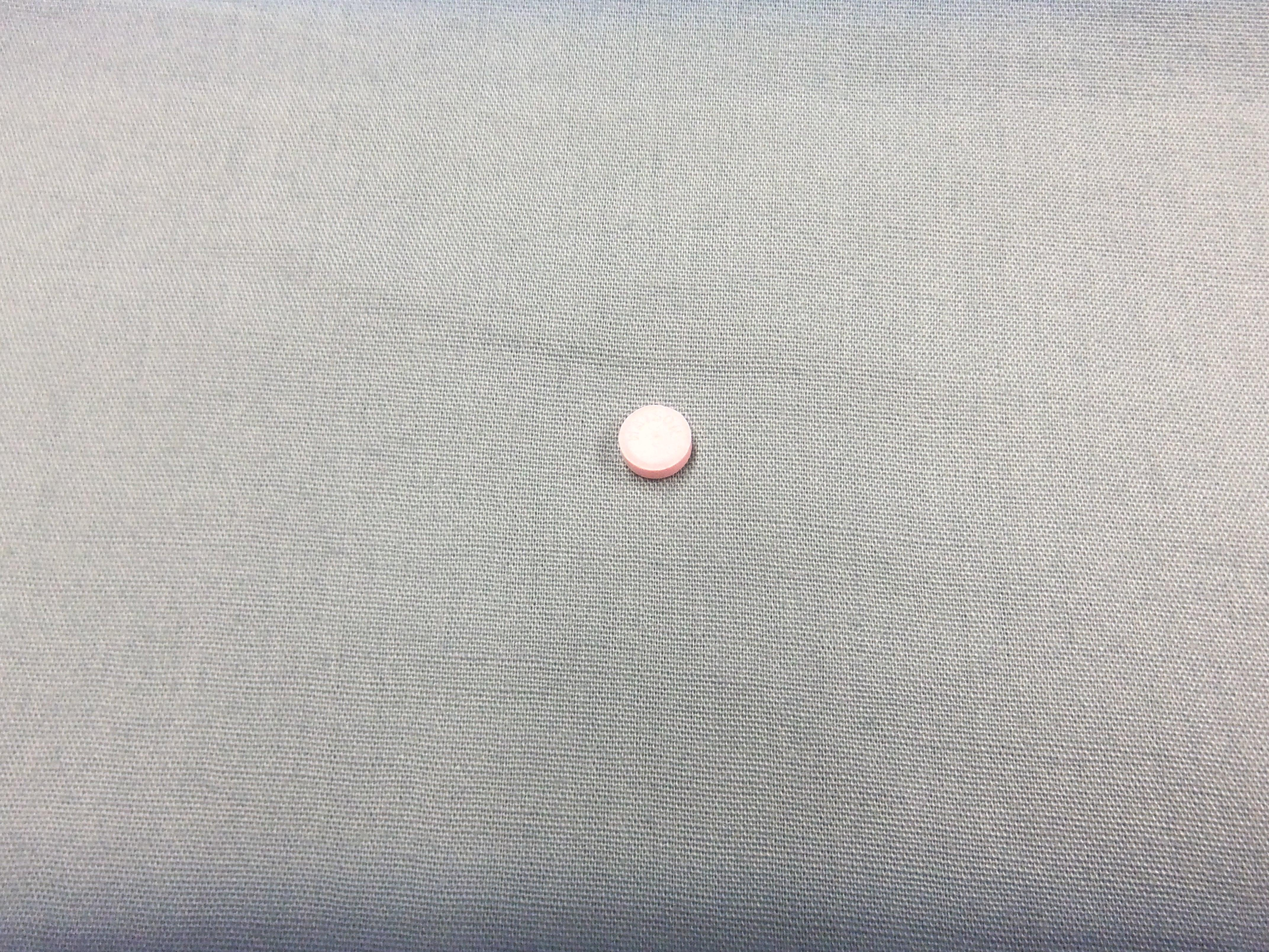Pill: (596, 386, 704, 491)
